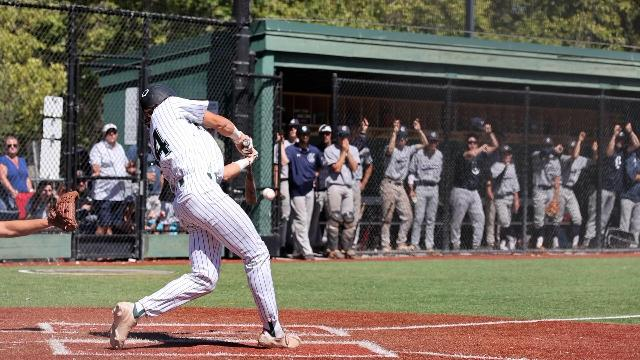ball: (262, 188, 276, 202)
bat: (243, 164, 259, 206)
